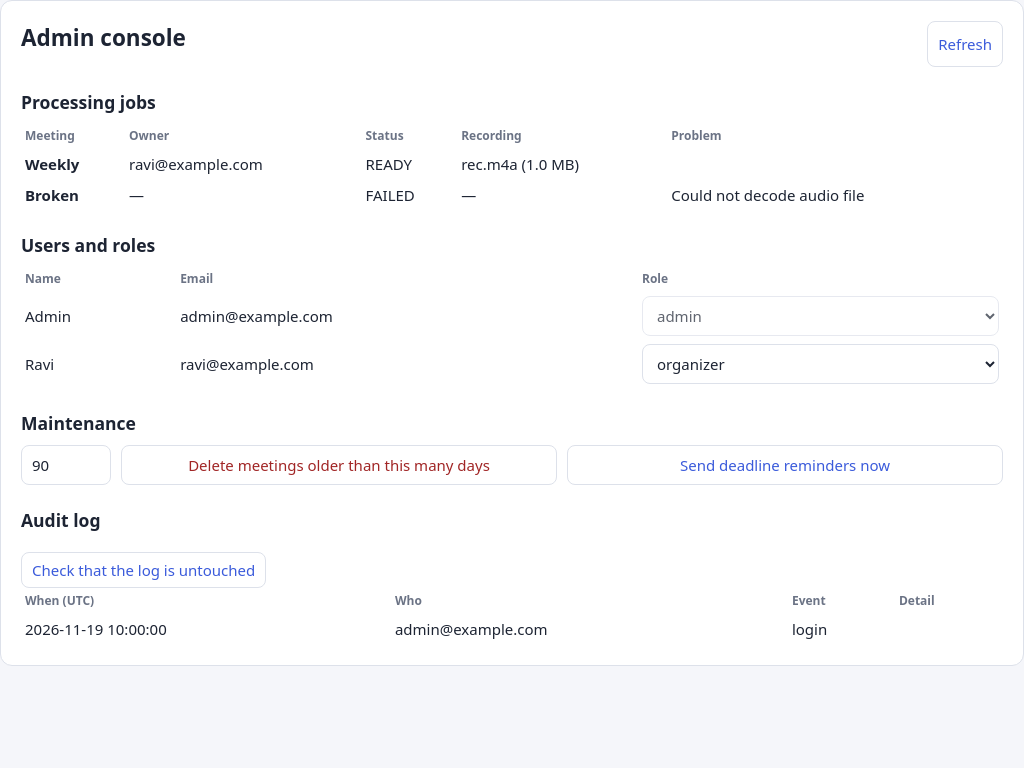
Scenario: AdminConsole › runs retention only after confirming and validates the number of days
Replace the text in the field named "Retention days" with "abc" at (66, 465), box [21,445,111,485]
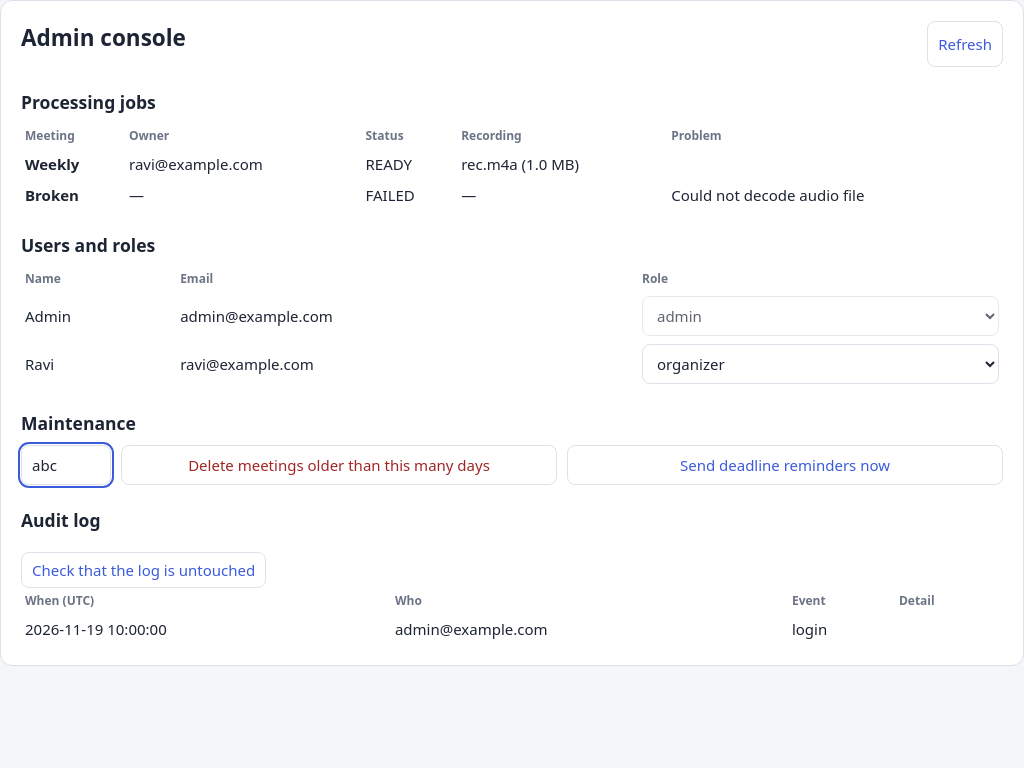
Click the button "Delete meetings older than this many days" at (339, 465), box [121,445,557,485]
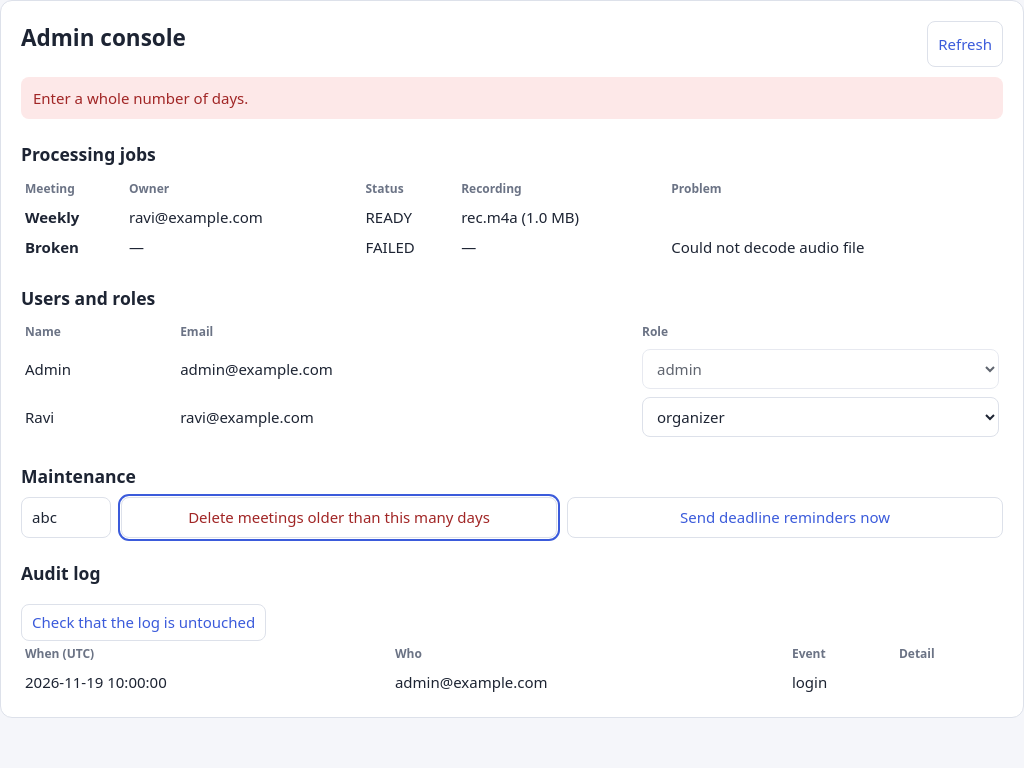
Now the message shows "whole number of days", box [33,88,248,108]
Replace the text in the field named "Retention days" with "30" at (66, 517), box [21,497,111,538]
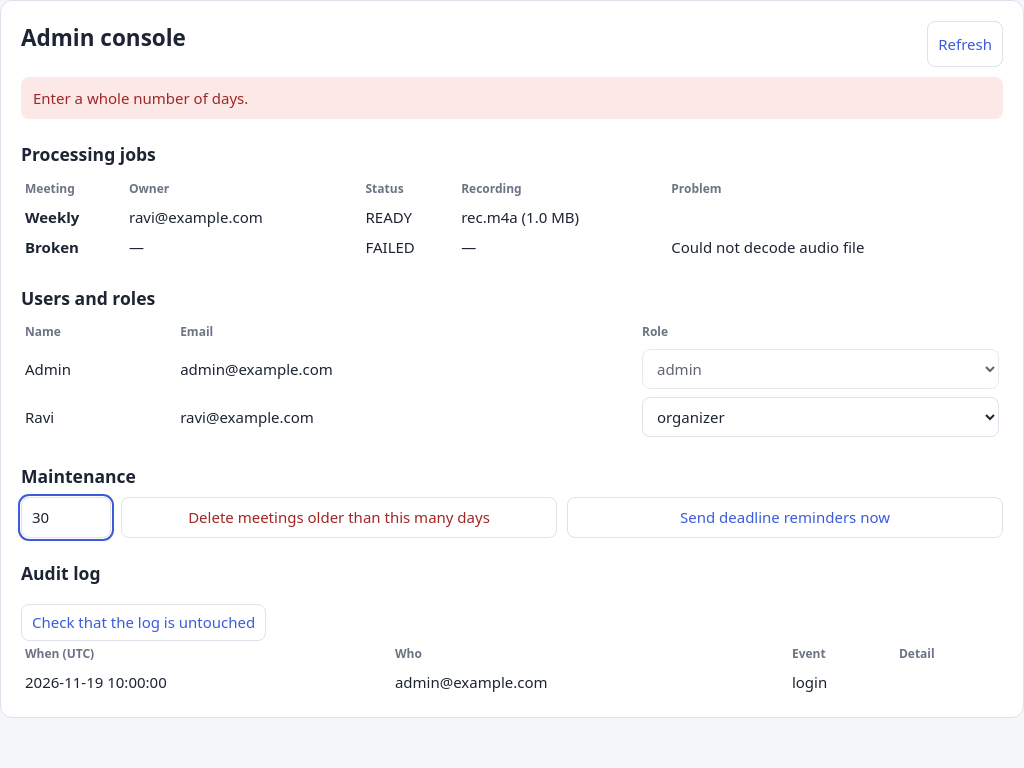
Click the button "Delete meetings older than this many days" at (339, 517), box [121,497,557,538]
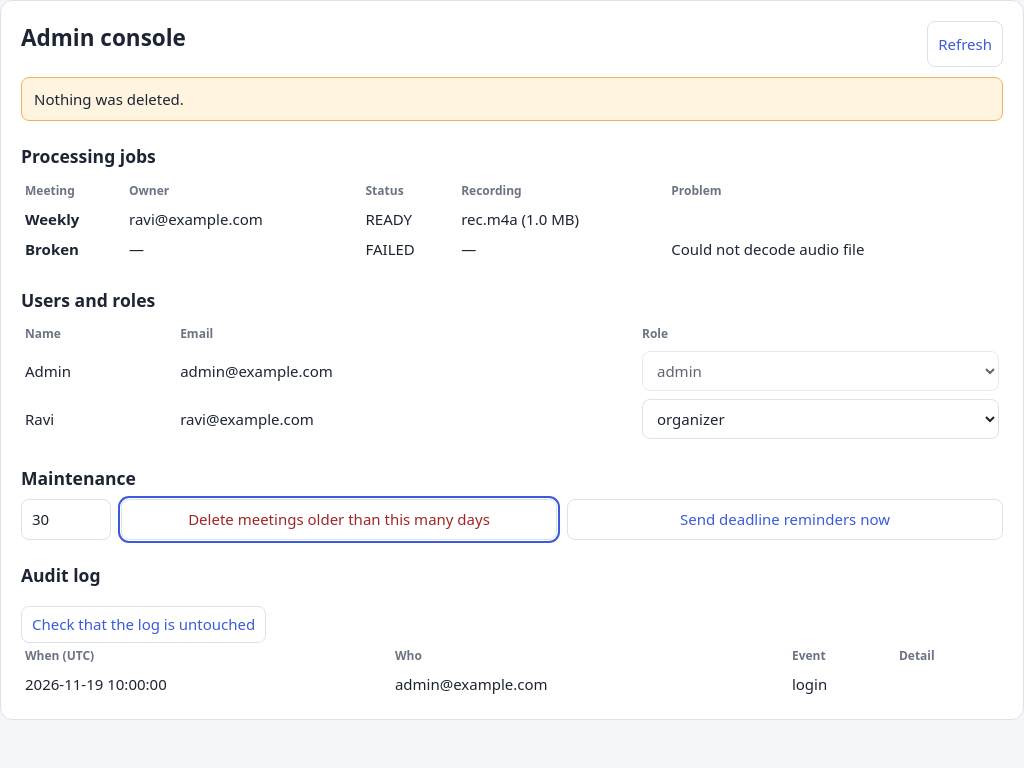
Click the button "Delete meetings older than this many days" at (339, 519), box [121,499,557,540]
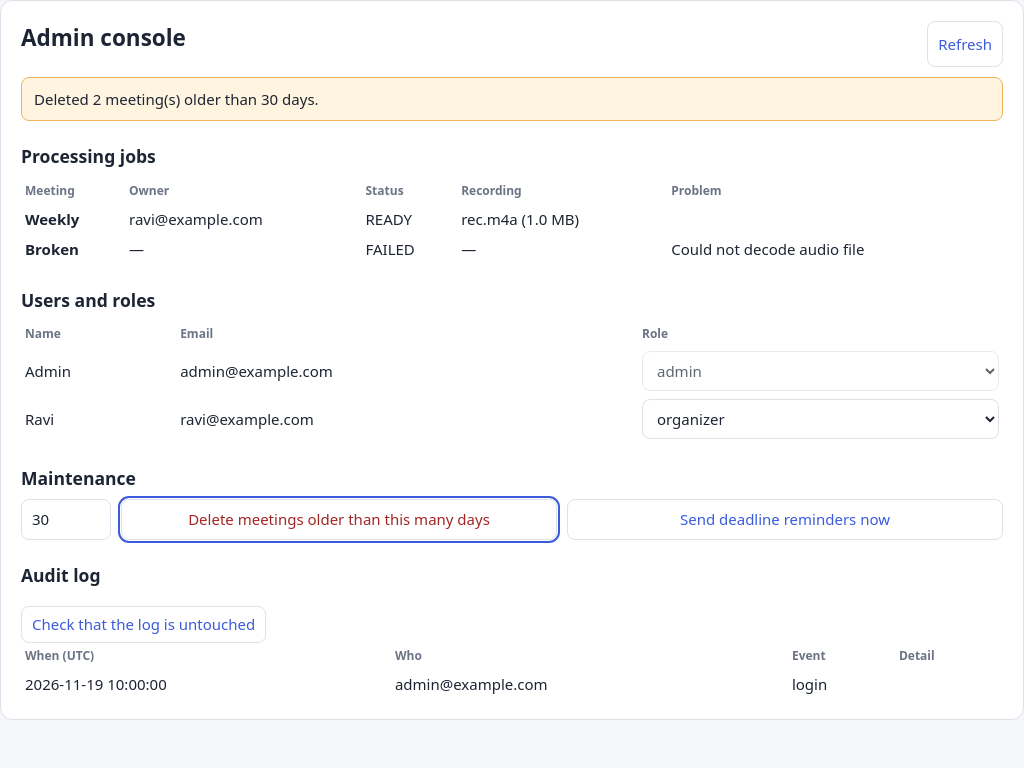
Now the message reads "Deleted 2 meeting(s) older than 30 days.", box [34,89,319,109]
